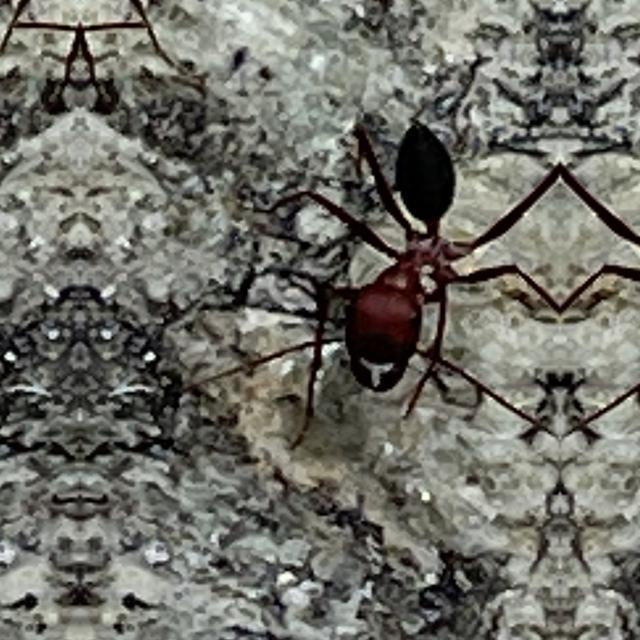Cataglyphis: (295, 87, 533, 441), (586, 87, 640, 441)
